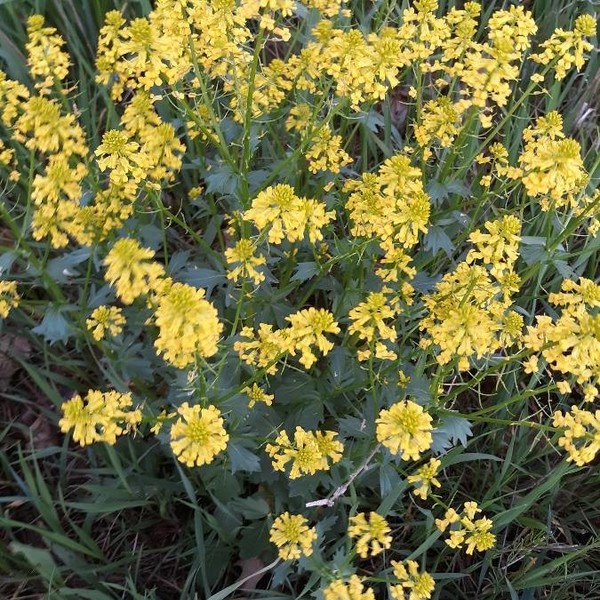obstacle: (29, 22, 497, 347), (149, 224, 471, 568), (415, 201, 579, 482)
